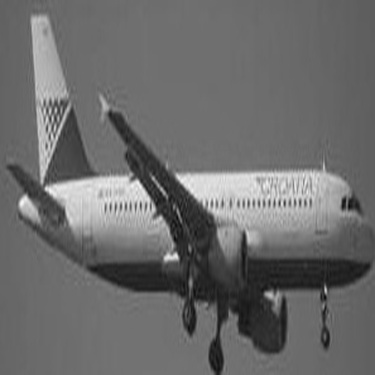airplane: (4, 7, 368, 369)
